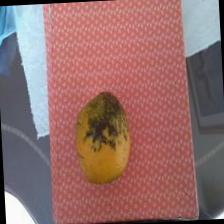Orange Rotten: (63, 80, 143, 194)
